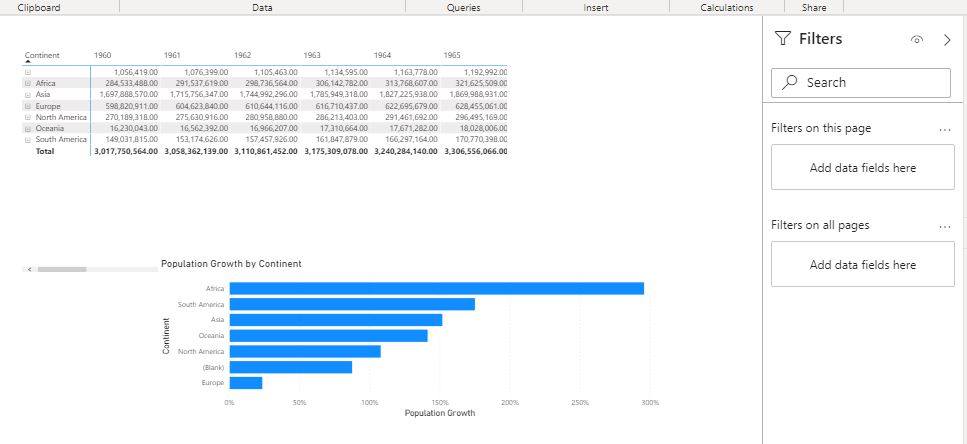

This screenshot's page, from the dashboard's own definition file:
{"tool":"powerbi","page":{"name":"Page 3","canvas":[1280,720],"ordinal":2},"visuals":[{"type":"pivotTable","fields":{"Rows":["countries (1).Continent Hierarchy.Continent","countries (1).Continent Hierarchy.Country"],"Values":["Indicators.Population"],"Columns":["Indicators.Year"]},"box":[31.9,50.4,824.8,384.7],"z":0},{"type":"barChart","fields":{"Category":["countries (1).Continent Hierarchy.Continent"],"Y":["Indicators.Population Growth"]},"box":[265.4,404.8,846.6,275.5],"z":1000}]}

Visuals, with their boxes on the page's 1280x720 design canvas (x1, y1, x2, y2). These are canvas units, not pixel positions in the 967x444 screenshot, which may show the page scaled, cropped or inside an application window:
pivotTable - countries (1).Continent Hierarchy.Continent x countries (1).Continent Hierarchy.Country: left=32, top=50, right=857, bottom=435
barChart - countries (1).Continent Hierarchy.Continent x Indicators.Population Growth: left=265, top=405, right=1112, bottom=680
